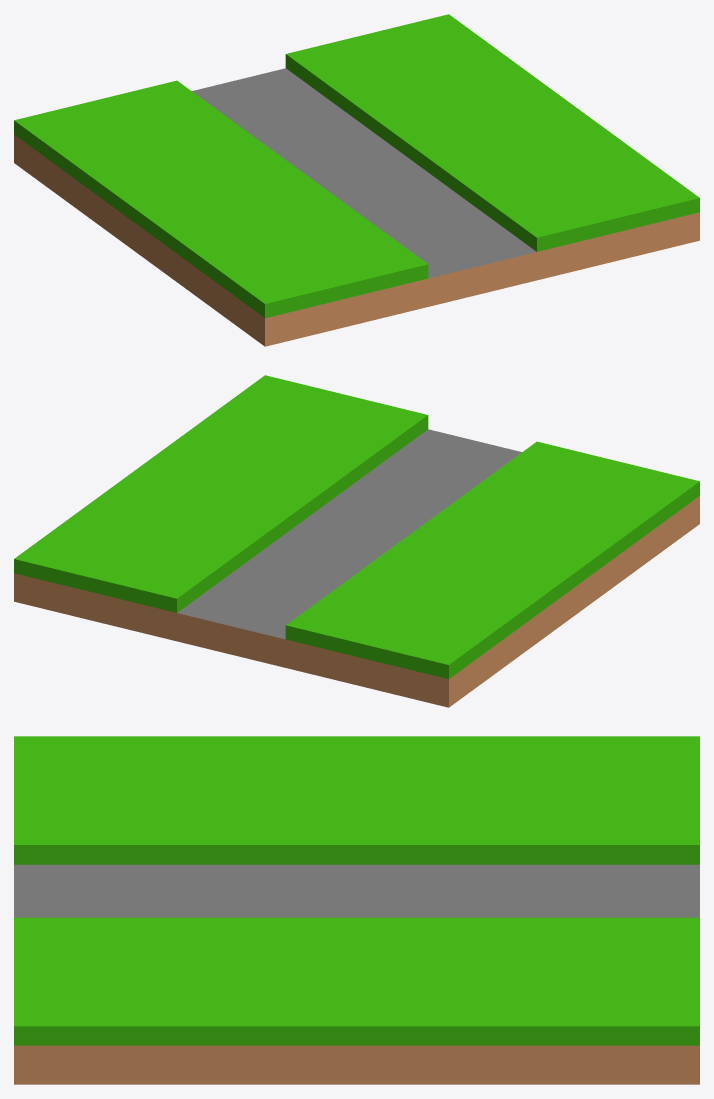
3 views of the same model, one above another, from view 1: azimuth 30°, elevation 25°; view 2: azimuth 150°, elevation 25°; view 3: azimuth 270°, elevation 25° (orthographic). The views are drawn at different scales.
Visible parts, largest first — view 1: cube (×3); view 2: cube (×3); view 3: cube (×3).
Boxes of the visible parts, x1=… form: cube (×3): x1=14, y1=14, x2=699, y2=346; cube (×3): x1=14, y1=375, x2=699, y2=707; cube (×3): x1=14, y1=736, x2=699, y2=1084.
Size of the model in its own units: 1 by 0.0938 by 1.
3 materials, 3 textured.
